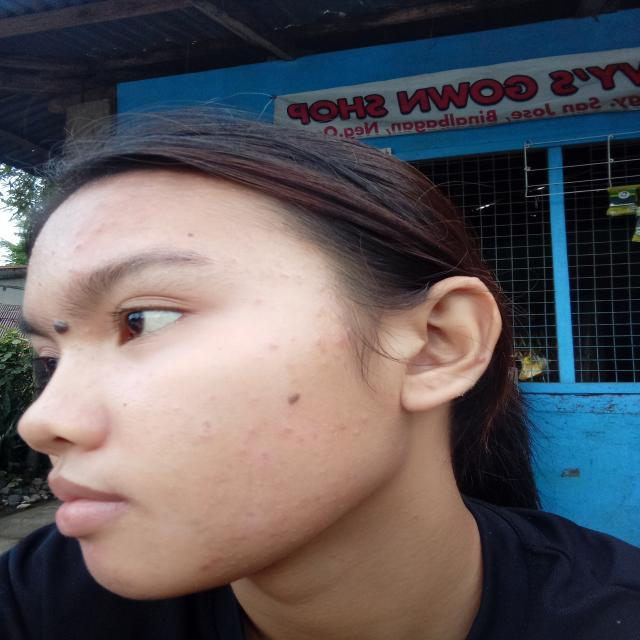Acne: (246, 378, 304, 423), (39, 300, 100, 342), (182, 403, 233, 450), (164, 217, 222, 252), (174, 546, 224, 585), (251, 326, 290, 356)
